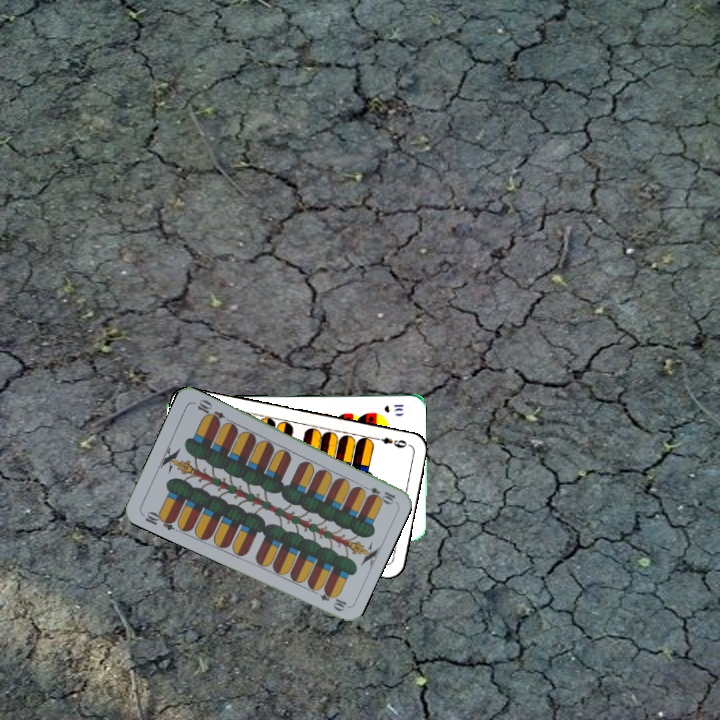E10: (138, 507, 178, 533), (358, 481, 398, 505)
E9: (371, 433, 411, 451)
S10: (380, 401, 406, 415)
